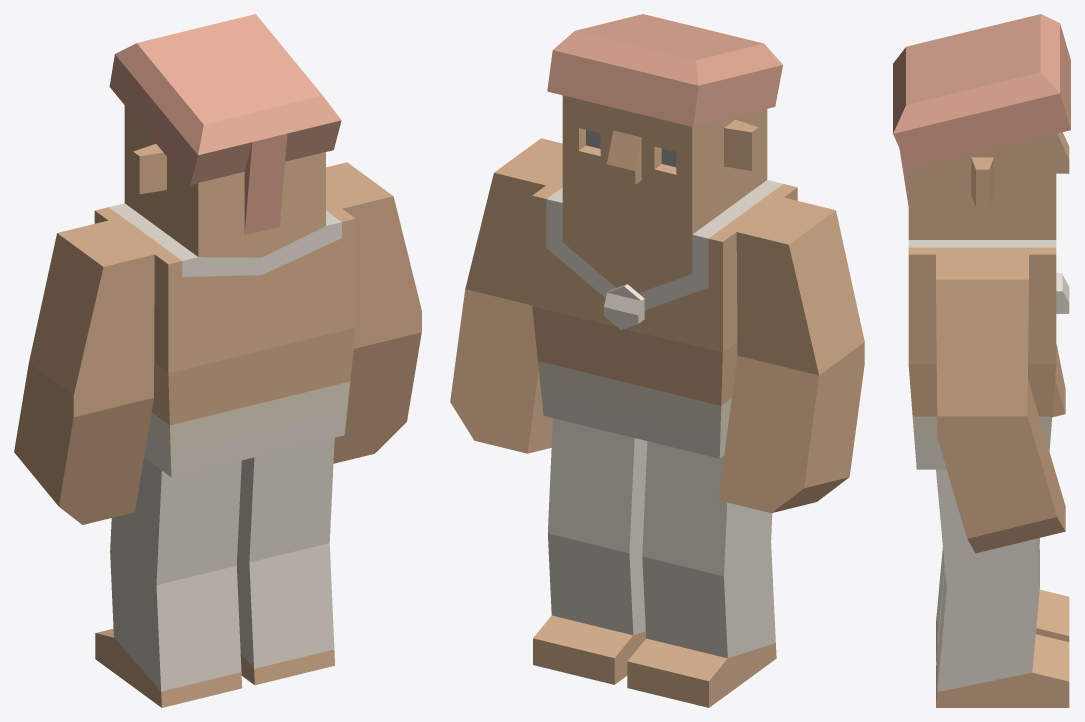
File: pirate_crew.glb
3 renders of one model, left to right at view 1: azimuth 30°, elevation 25°; view 2: azimuth 150°, elevation 25°; view 3: azimuth 270°, elevation 25°, orthographic.
Parts seen in each view (by area): view 1: body 1, Group 143 (×2), armLeft 1, legLeft 1, legRight 1, armRight 1; view 2: body 1, Group 143 (×2), armLeft 1, legLeft 1, legRight 1, armRight 1; view 3: Group 143 (×2), armRight 1, legRight 1, body 1, legLeft 1, armLeft 1.
Part boxes in pixels (<box>): body 1: <box>94,197,355,477</box>; Group 143 (×2): <box>109,14,341,256</box>; armLeft 1: <box>14,220,154,524</box>; legLeft 1: <box>95,457,242,707</box>; legRight 1: <box>236,438,334,684</box>; armRight 1: <box>326,162,421,463</box>; body 1: <box>532,173,797,458</box>; Group 143 (×2): <box>547,14,782,234</box>; armLeft 1: <box>718,197,864,512</box>; legLeft 1: <box>627,441,776,707</box>; legRight 1: <box>533,418,647,684</box>; armRight 1: <box>450,138,562,453</box>; Group 143 (×2): <box>893,14,1070,239</box>; armRight 1: <box>936,254,1065,553</box>; legRight 1: <box>936,469,1069,707</box>; body 1: <box>908,240,1069,469</box>; legLeft 1: <box>936,538,1069,662</box>; armLeft 1: <box>1052,344,1065,417</box>.
Bounding box in the file's own units: 0.6239 × 1.06 × 0.275.
